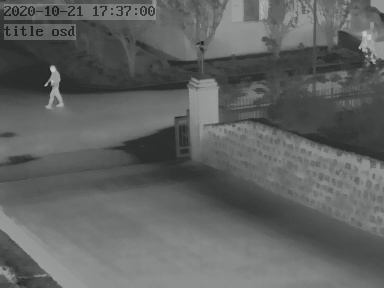person: (44, 61, 64, 107), (358, 29, 377, 61)
